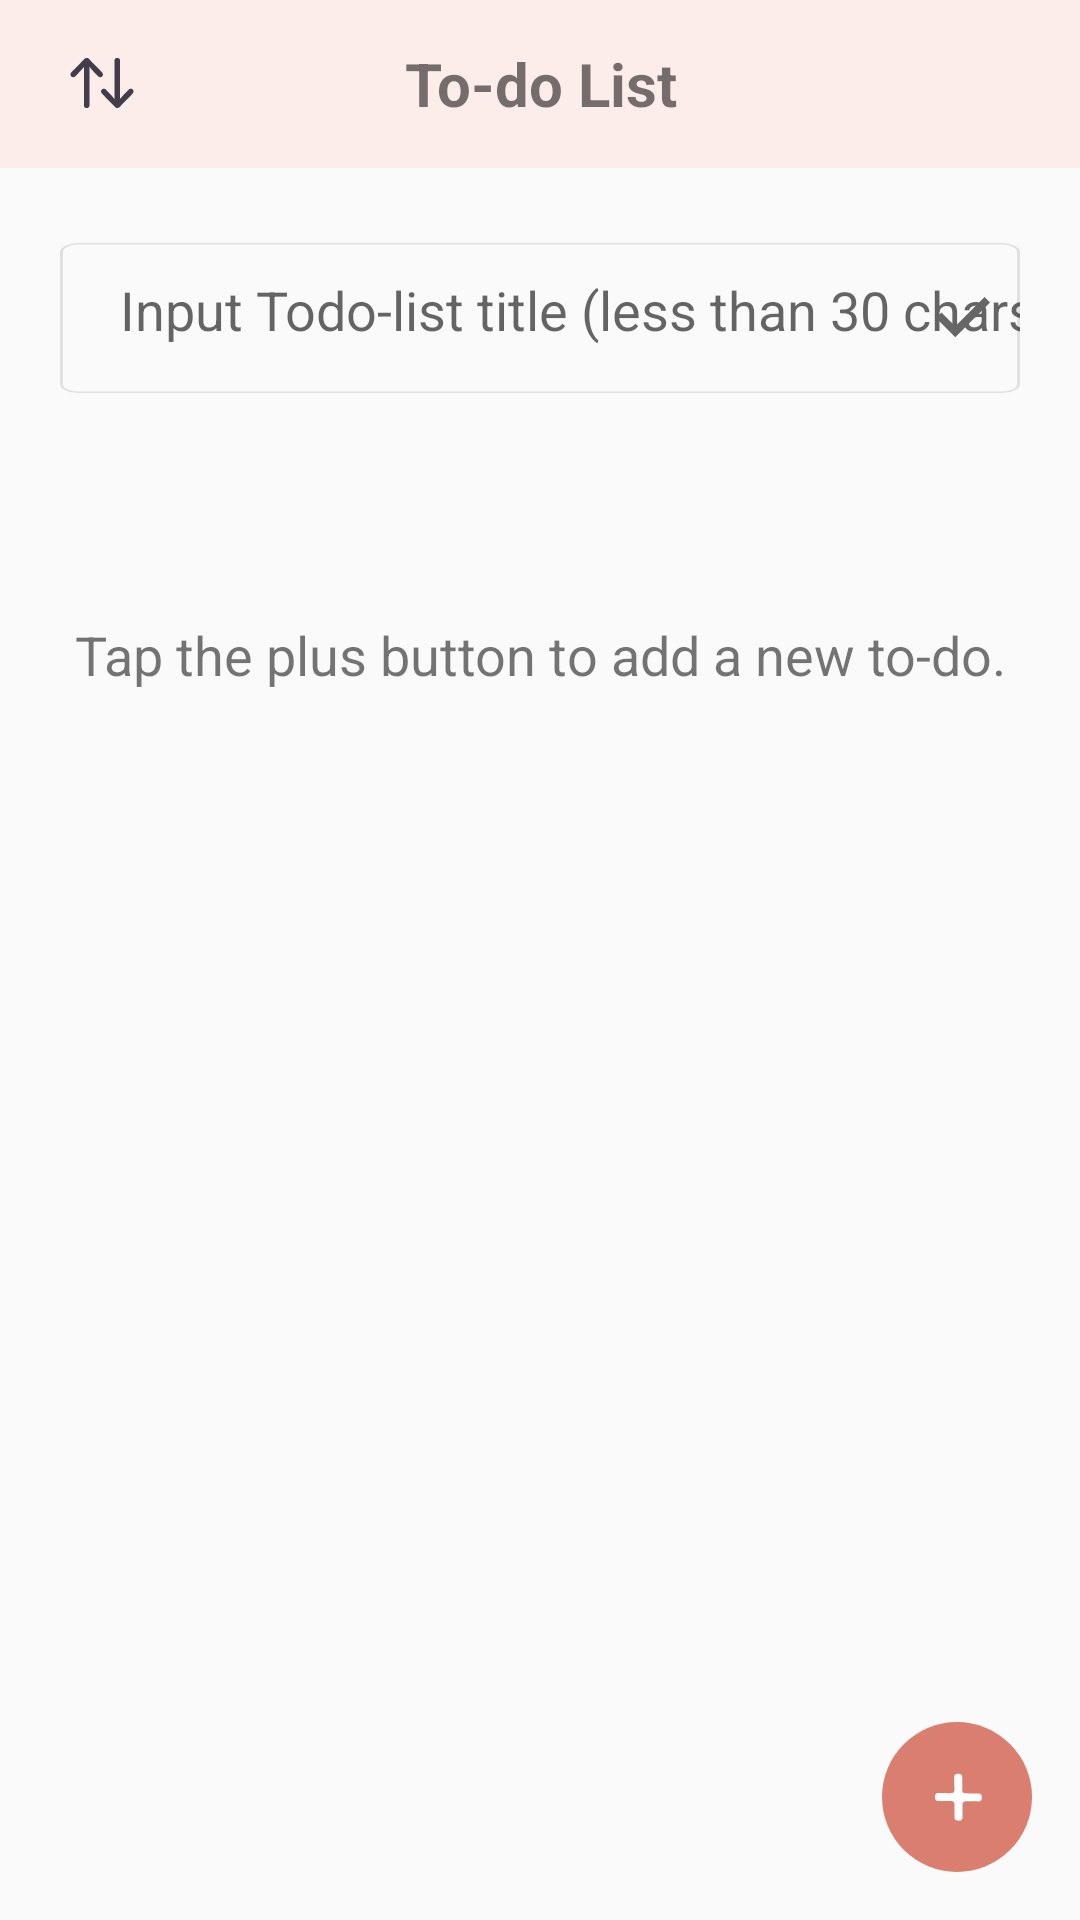

Icons on this 1080w x 1920h Android screen, each with the point to tap as (x=x, y=y):
list sort: (x=102, y=83)
